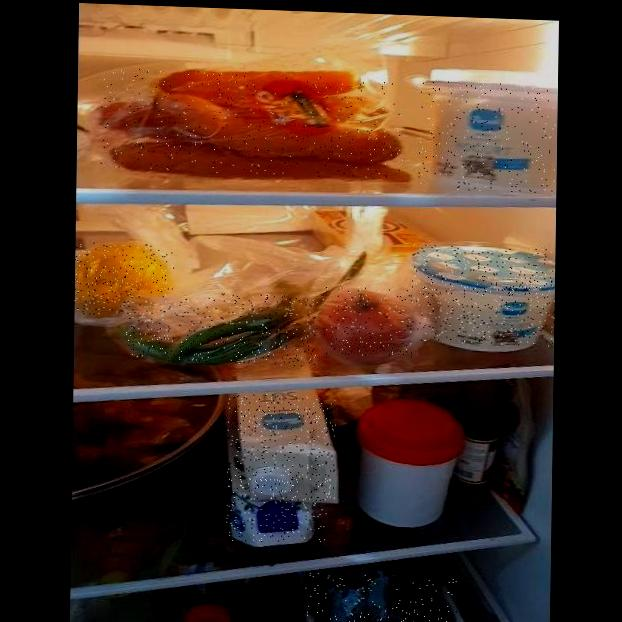broccoli: (304, 572, 458, 622)
carrot: (100, 68, 404, 180)
green chilies: (126, 290, 318, 367)
lemon: (74, 242, 175, 317)
milk: (226, 393, 336, 545)
tomato: (322, 286, 414, 358)
yoghurt: (419, 80, 556, 194), (411, 244, 555, 347)
